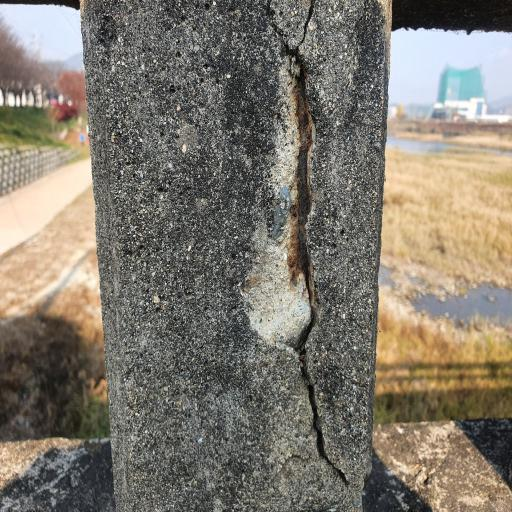exposed_rebar: (297, 62, 315, 296)
